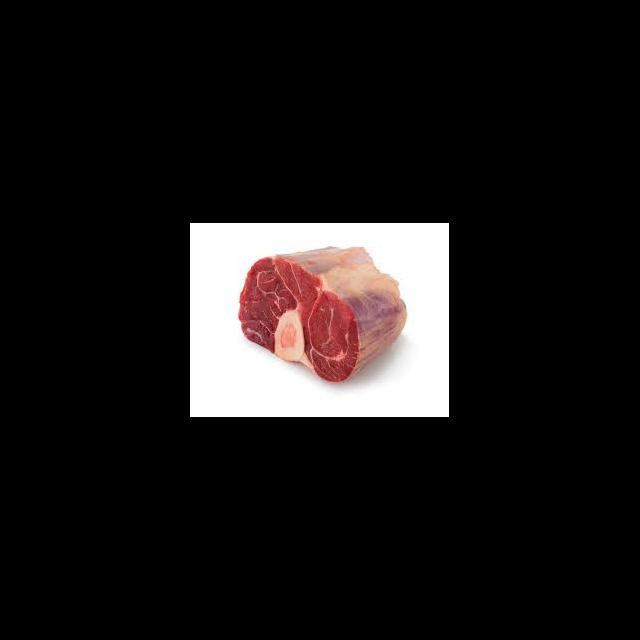beef: (235, 249, 408, 380)
